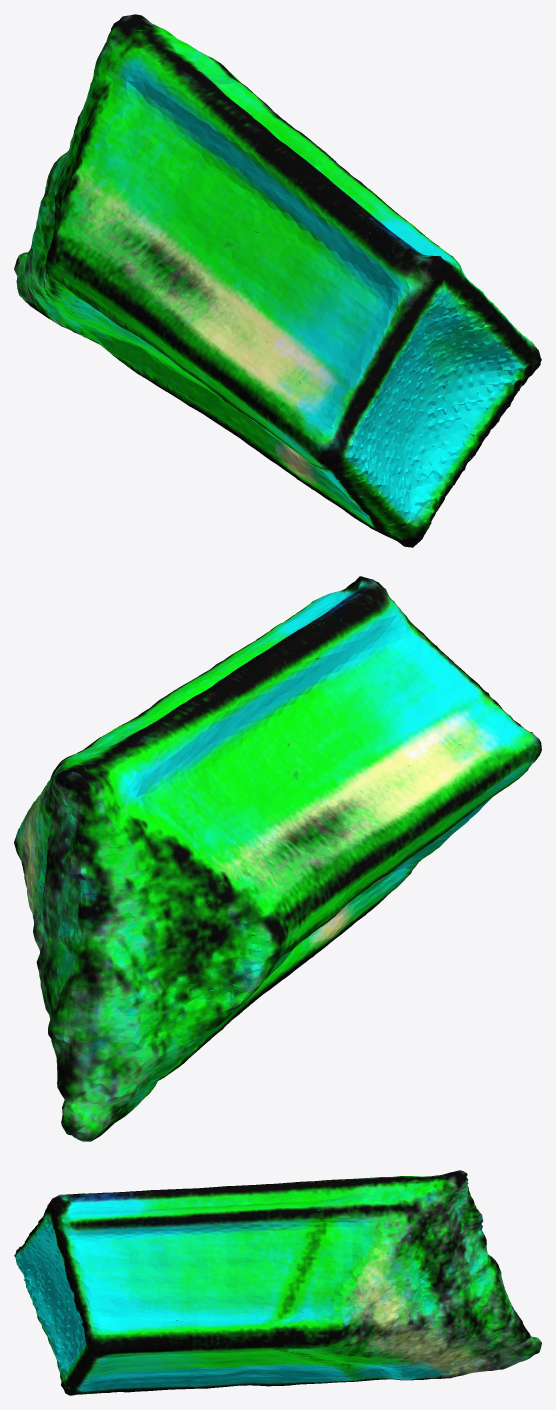
Rendered from Other.obj.
The picture shows the model from 3 angles, top to bottom: view 1: azimuth 30°, elevation 25°; view 2: azimuth 150°, elevation 25°; view 3: azimuth 270°, elevation 25°; orthographic projection. The views are drawn at different scales.
Visible parts, largest first — view 1: object; view 2: object; view 3: object.
Part boxes in pixels (x1,y1,x2,y2): object: (14,14,541,547); object: (14,576,541,1141); object: (14,1170,541,1395).
Bounding box in the file's own units: 1.01 × 1.08 × 2.31.
1 material, 1 textured.
